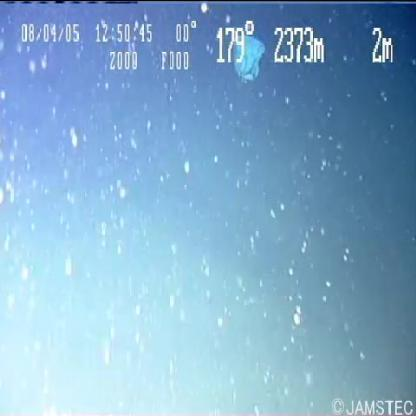Rác: (232, 33, 268, 86)
